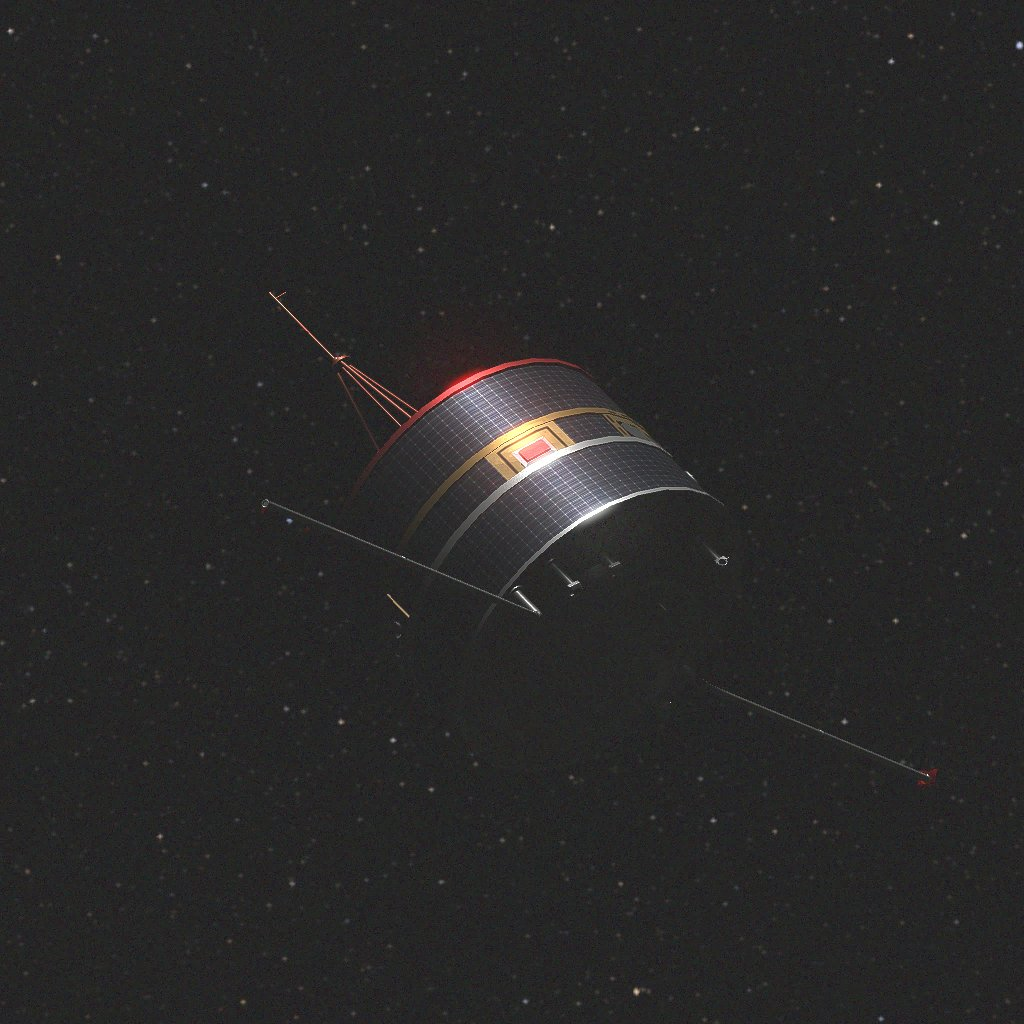double_star: (261, 292, 939, 791)
